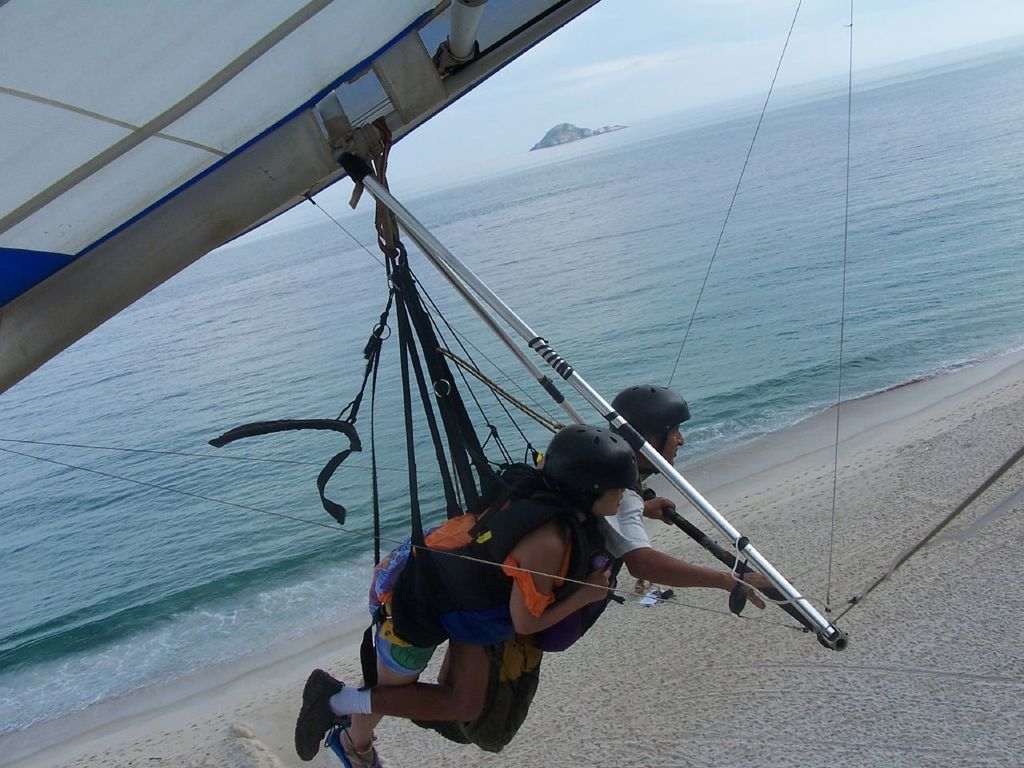Person: (293, 385, 796, 763), (325, 420, 643, 767)
